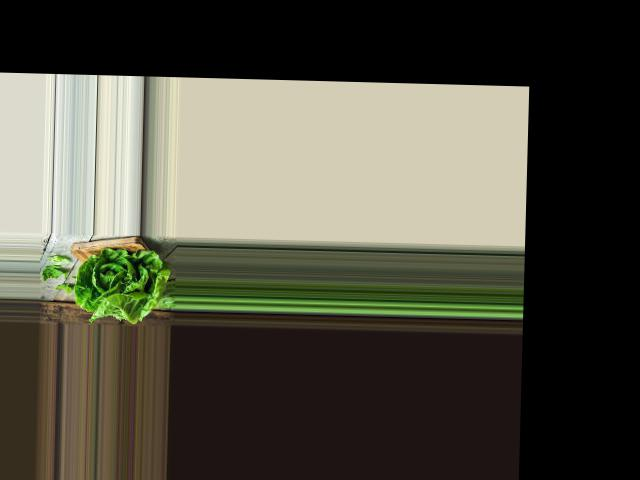lettuce: (77, 243, 172, 322)
